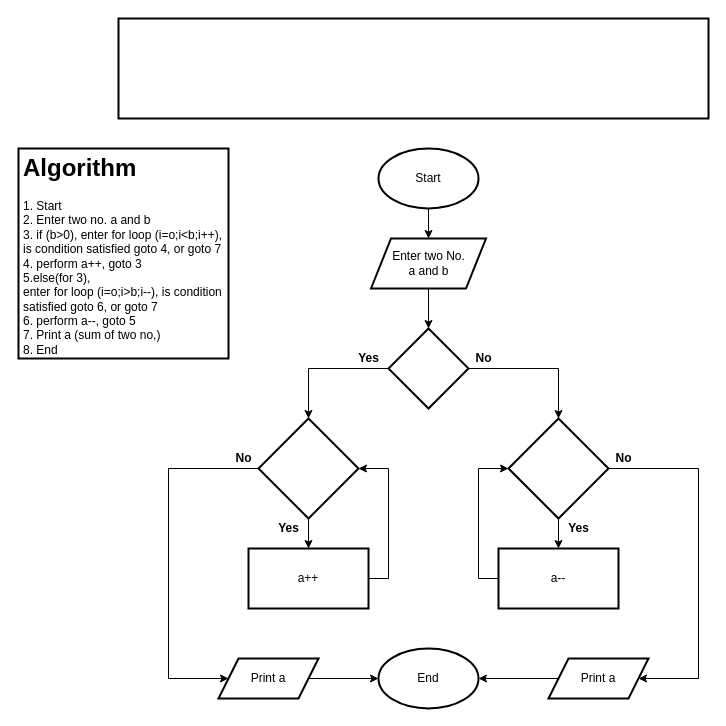
The diagram is 726 pixels wide and 726 high, and some of its shapes have lost their labels. Here are the shapes that lost their labels. From the top down, the centre of each, then its label:
the point at 413,68: Print Sum of Two No. without using arithmetic operations
the point at 428,368: if b>0
the point at 308,468: for (i=o;i<b;i++)
the point at 558,468: for (i=o;i>b;i--)
